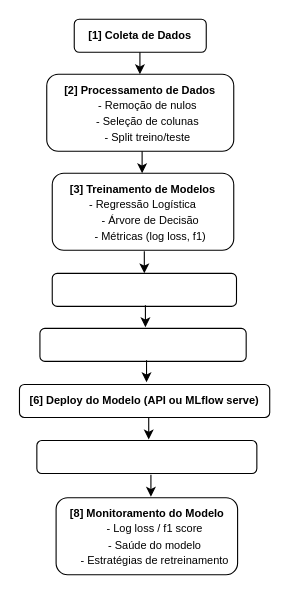
The diagram is 289 pixels wide and 594 high, and some of its shapes have lost their labels. The centre of each missing label's shape, as x and y in pixels:
[4] Seleção do Melhor Modelo: the point at 144,289
[5] Registro e Versionamento (MLflow): the point at 142,344
[7] Aplicação no dataset de Produção: the point at 146,456
